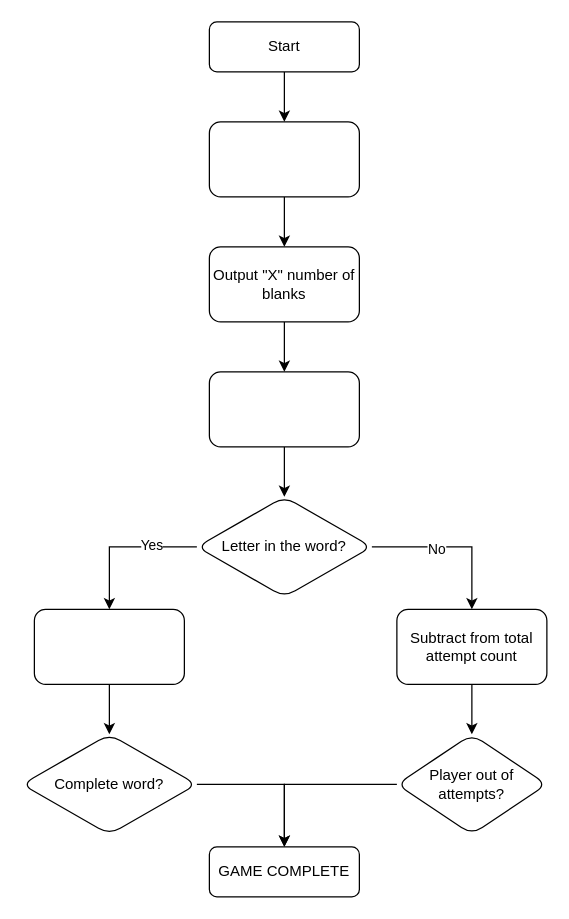
Some shapes in this 569 by 919 pixel diagram are drawn without their labels. Each missing label, with the box of its shape:
Generate Random word with "X" letters: (208, 121, 359, 197)
Prompt user to guess one letter: (208, 371, 359, 447)
Replace all blanks with the new letter: (33, 608, 184, 684)
